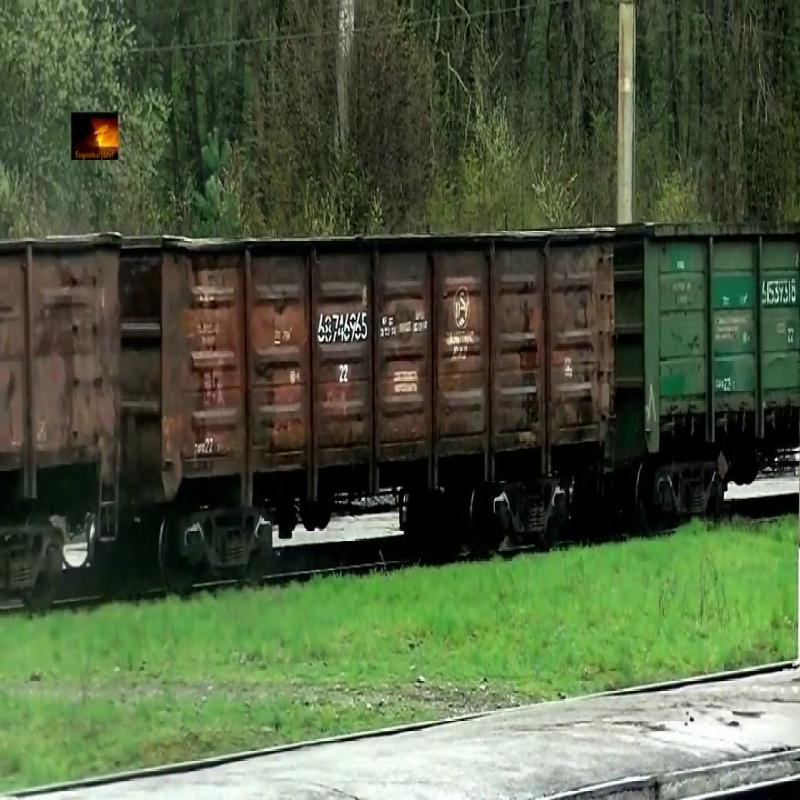train: (124, 227, 617, 507), (620, 223, 800, 463), (1, 230, 124, 495)
